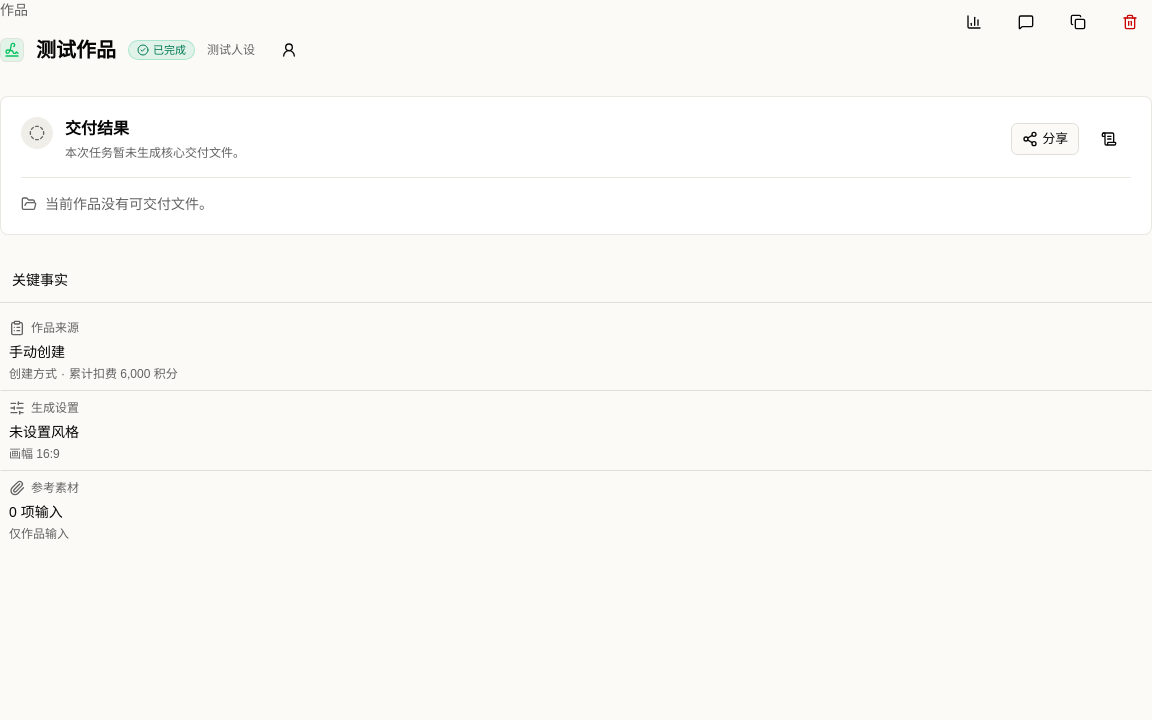
Test: TaskDetailPage › shows a retry state when persona profile loading fails
The width and height of the screenshot is (1152, 720).
Click the button named "查看人设详情：测试人设". click: (289, 50)
box: [267,28,311,72]
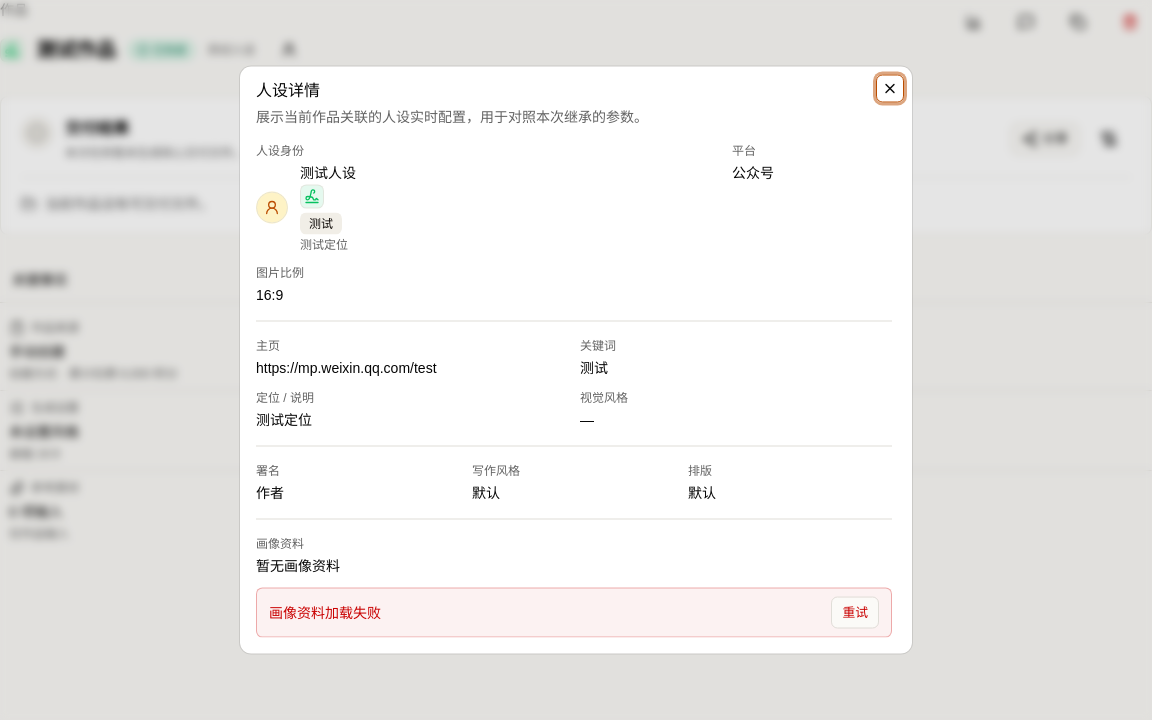
Expected: the text "画像资料加载失败" is shown, [269,602,381,622]
Click the button "重试". click: (855, 612)
box: [831,596,879,628]
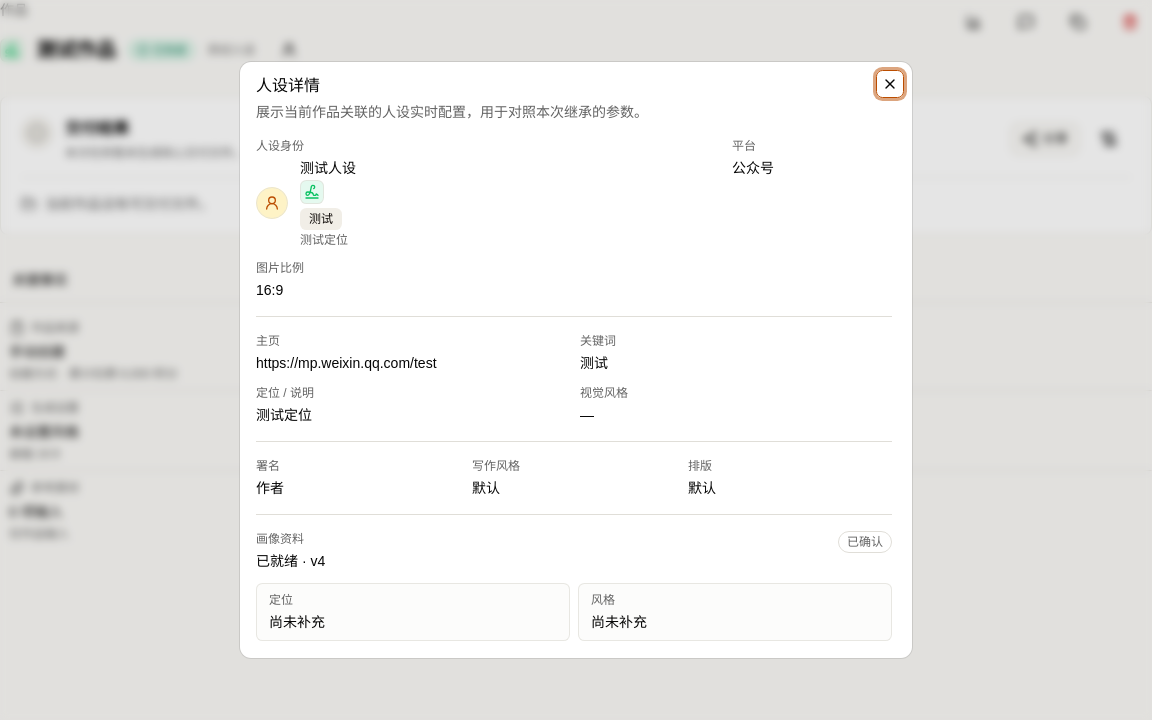
Expected: the text "已就绪 · v4" is shown, [256,551,325,571]
